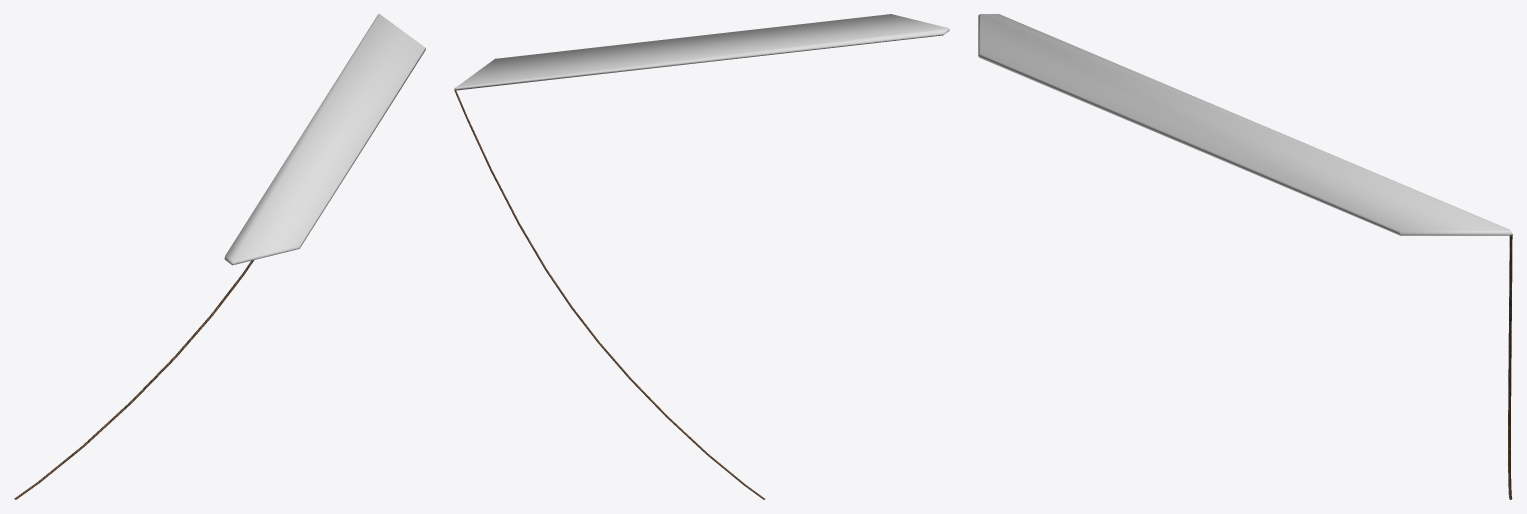
File: SM_FlagsRope_A.fbx
The picture shows the model from 3 angles, left to right: view 1: azimuth 30°, elevation 25°; view 2: azimuth 150°, elevation 25°; view 3: azimuth 270°, elevation 25°; orthographic projection. The views are drawn at different scales.
Visible parts, largest first — view 1: SM_FlagsRope_A_ConvexHulls, SM_FlagsRope_A; view 2: SM_FlagsRope_A_ConvexHulls, SM_FlagsRope_A; view 3: SM_FlagsRope_A_ConvexHulls, SM_FlagsRope_A.
Part boxes in pixels (x1,y1,x2,y2): SM_FlagsRope_A_ConvexHulls: (224, 14, 425, 265); SM_FlagsRope_A: (14, 260, 254, 499); SM_FlagsRope_A_ConvexHulls: (454, 14, 949, 90); SM_FlagsRope_A: (454, 89, 765, 499); SM_FlagsRope_A_ConvexHulls: (978, 14, 1512, 235); SM_FlagsRope_A: (1508, 234, 1512, 499).
Size of the model in its own units: 5.25 by 5.43 by 5.42.
